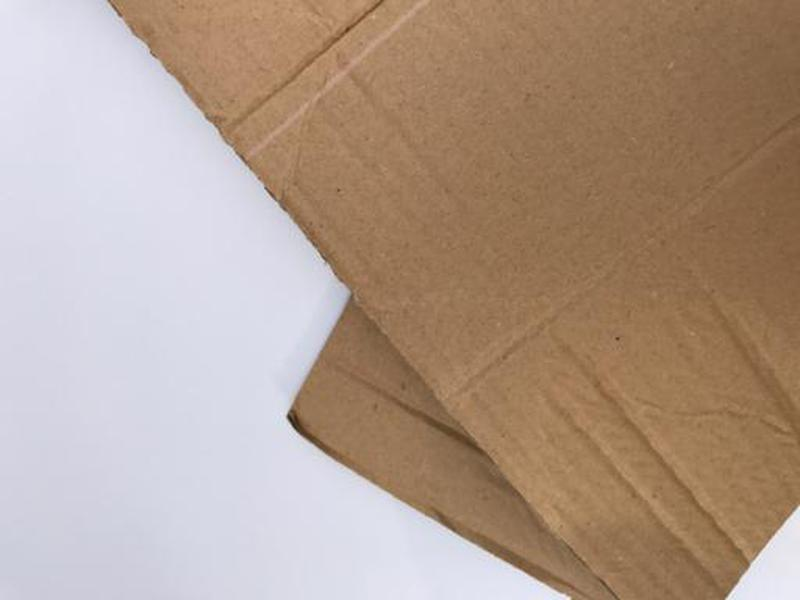cardboard: (97, 1, 800, 600)
